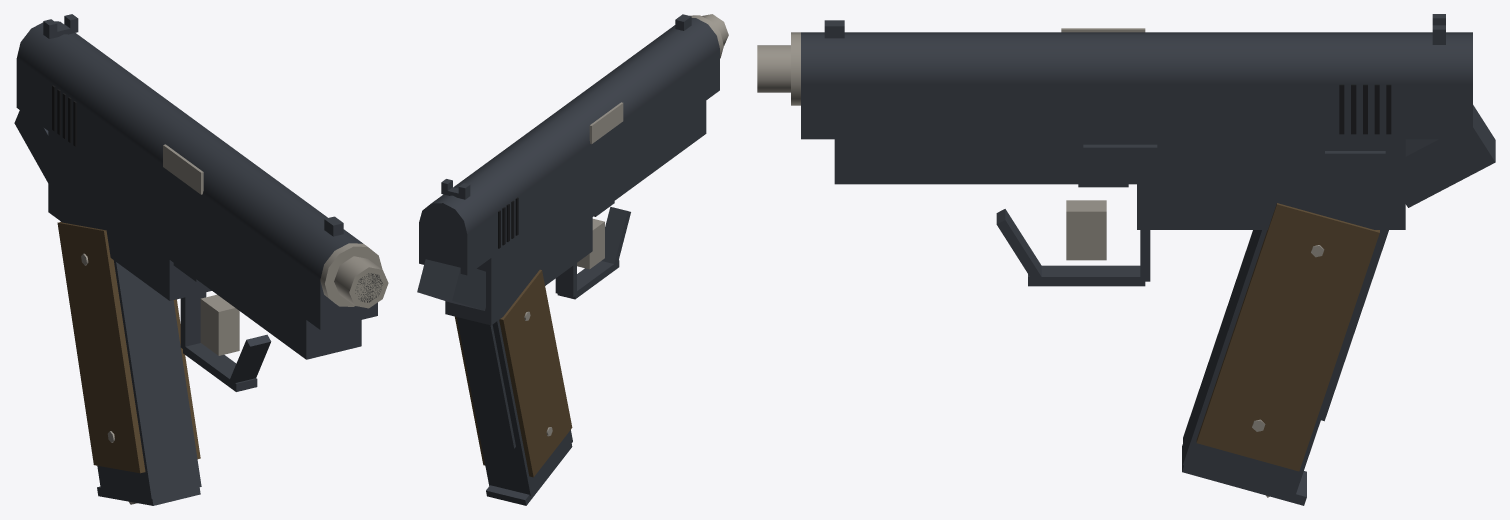
File: m1911a1-colt.glb
3 renders of one model, left to right at view 1: azimuth 30°, elevation 25°; view 2: azimuth 150°, elevation 25°; view 3: azimuth 270°, elevation 25°, orthographic. The views are drawn at different scales.
Visible parts, largest first — view 1: Mesh_SlideTop, Mesh_SlideBase, Mesh_GripFrame, Mesh_GripPanelR, Mesh_FrameMid, Mesh_DustCover, Mesh_Trigger, Mesh_Barrel, Mesh_Bushing, Mesh_GuardBottom, Mesh_BeaverTail, Mesh_GuardFront (+4 smaller); view 2: Mesh_SlideTop, Mesh_SlideBase, Mesh_GripPanelR, Mesh_FrameMid, Mesh_GripFrame, Mesh_GripSafetyBack, Mesh_DustCover, Mesh_BeaverTail, Mesh_GuardFront, Mesh_GuardBottom, Mesh_MagBase, Mesh_Trigger (+3 smaller); view 3: Mesh_SlideBase, Mesh_SlideTop, Mesh_GripPanelL, Mesh_FrameMid, Mesh_DustCover, Mesh_GripFrame, Mesh_BeaverTail, Mesh_Trigger, Mesh_GuardBottom, Mesh_SlideLock, Mesh_ThumbSafety, Mesh_Barrel (+3 smaller).
Part boxes in pixels (left/top/right/bottom): Mesh_SlideTop: left=17, top=21, right=362, bottom=279; Mesh_SlideBase: left=16, top=58, right=377, bottom=329; Mesh_GripFrame: left=60, top=221, right=201, bottom=498; Mesh_GripPanelR: left=57, top=222, right=145, bottom=473; Mesh_FrameMid: left=48, top=131, right=211, bottom=300; Mesh_DustCover: left=169, top=220, right=361, bottom=359; Mesh_Trigger: left=200, top=294, right=239, bottom=355; Mesh_Barrel: left=334, top=256, right=388, bottom=308; Mesh_Bushing: left=320, top=243, right=382, bottom=306; Mesh_GuardBottom: left=183, top=343, right=257, bottom=391; Mesh_BeaverTail: left=14, top=110, right=48, bottom=182; Mesh_GuardFront: left=230, top=334, right=271, bottom=382; Mesh_SlideTop: left=419, top=18, right=719, bottom=253; Mesh_SlideBase: left=419, top=49, right=719, bottom=275; Mesh_GripPanelR: left=499, top=269, right=572, bottom=477; Mesh_FrameMid: left=445, top=184, right=592, bottom=325; Mesh_GripFrame: left=456, top=317, right=572, bottom=495; Mesh_GripSafetyBack: left=460, top=318, right=515, bottom=448; Mesh_DustCover: left=592, top=101, right=706, bottom=216; Mesh_BeaverTail: left=417, top=259, right=485, bottom=310; Mesh_GuardFront: left=601, top=207, right=630, bottom=265; Mesh_GuardBottom: left=557, top=260, right=619, bottom=299; Mesh_MagBase: left=486, top=444, right=572, bottom=505; Mesh_Trigger: left=577, top=219, right=604, bottom=269; Mesh_SlideBase: left=801, top=84, right=1472, bottom=139; Mesh_SlideTop: left=801, top=32, right=1472, bottom=84; Mesh_GripPanelL: left=1196, top=203, right=1379, bottom=471; Mesh_FrameMid: left=1137, top=139, right=1405, bottom=229; Mesh_DustCover: left=834, top=139, right=1136, bottom=184; Mesh_GripFrame: left=1183, top=230, right=1384, bottom=495; Mesh_BeaverTail: left=1405, top=105, right=1495, bottom=207; Mesh_Trigger: left=1066, top=200, right=1106, bottom=260; Mesh_GuardBottom: left=1028, top=265, right=1145, bottom=286; Mesh_SlideLock: left=1083, top=144, right=1157, bottom=165; Mesh_ThumbSafety: left=1325, top=151, right=1385, bottom=177; Mesh_Barrel: left=757, top=45, right=790, bottom=92.
Bounding box in the file's own units: 0.0246 × 0.155 × 0.2197.
